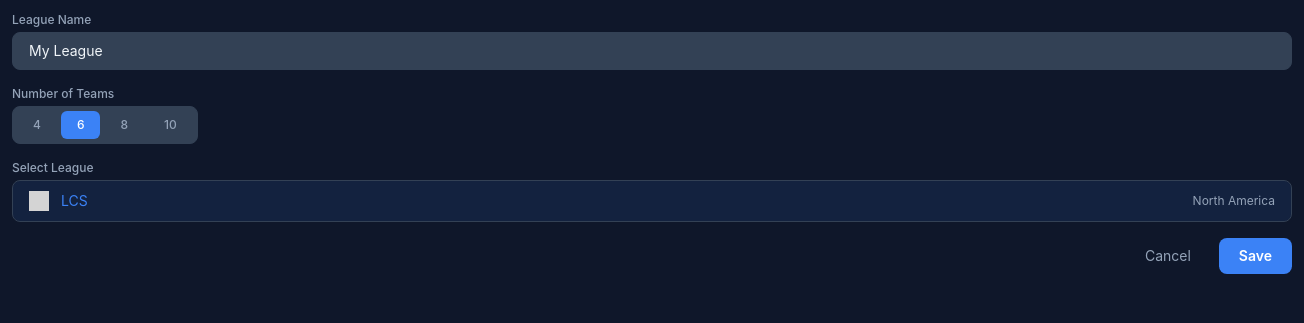
it: SettingsTab › displays inline error when save fails
Click Save
Click the button "Save". click: click(1255, 256)
box: left=1219, top=238, right=1292, bottom=274
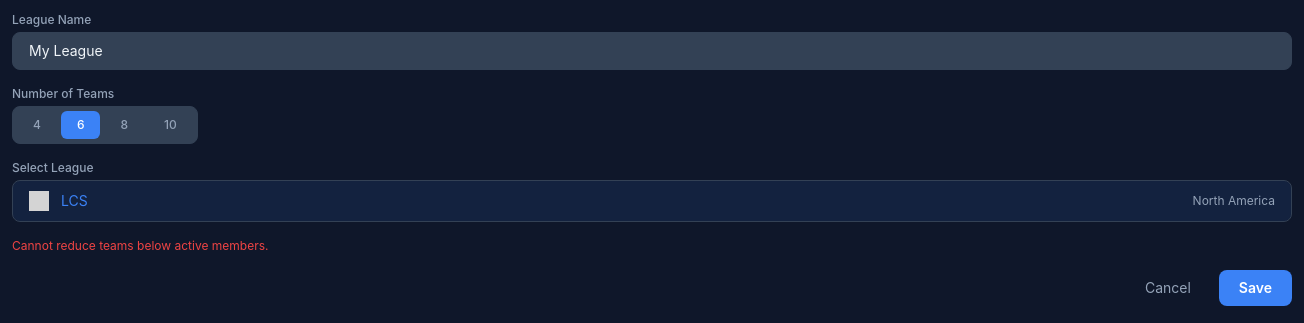
Check: the field is shown, box left=12, top=32, right=1292, bottom=70
Check: the text "Cannot reduce teams below active members." is shown, box left=12, top=238, right=268, bottom=253
